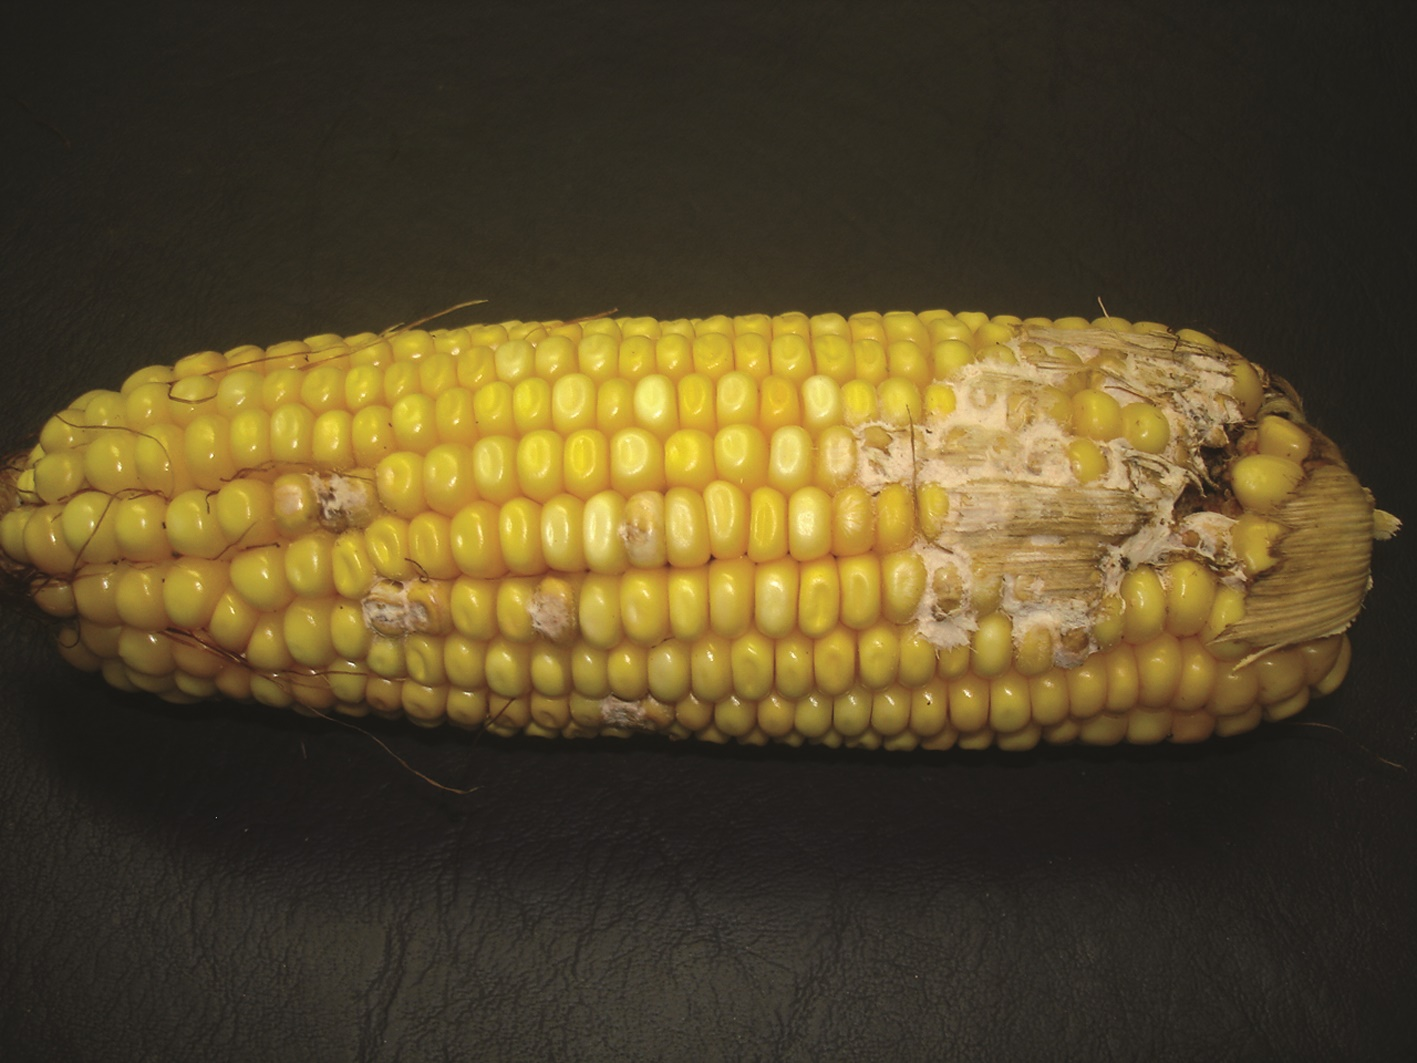rotten corn: (17, 294, 1394, 739)
